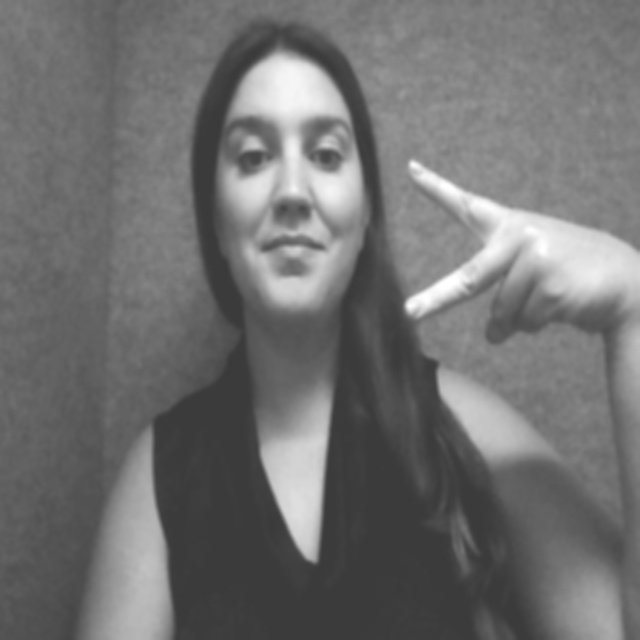Scissors: (377, 150, 640, 403)
